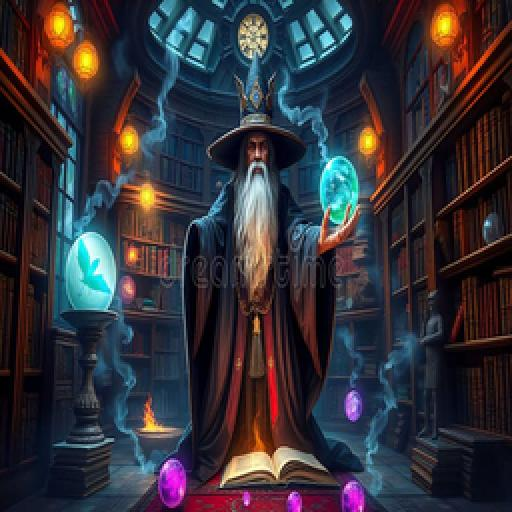wizards: (178, 47, 360, 470)
